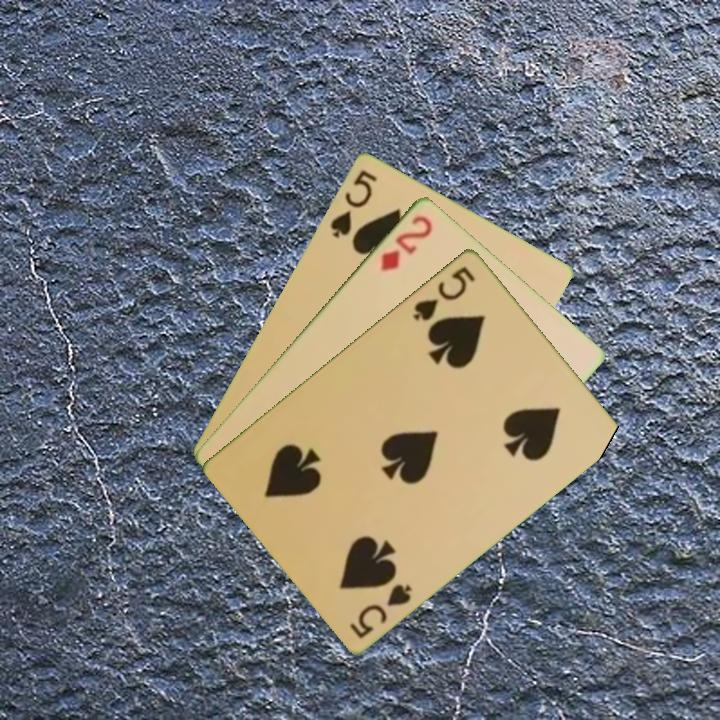2d: (377, 211, 436, 274)
5s: (409, 262, 479, 324), (346, 579, 415, 641), (326, 165, 380, 240)
